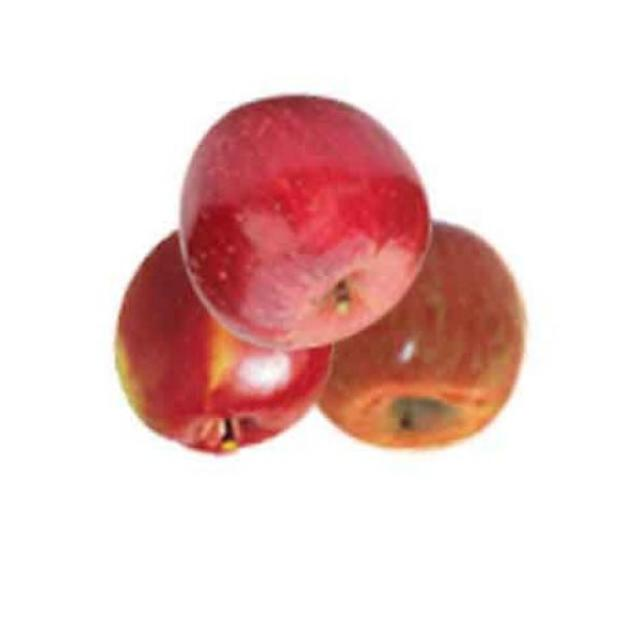apple: (177, 86, 435, 352), (296, 206, 528, 454), (111, 217, 336, 470)
